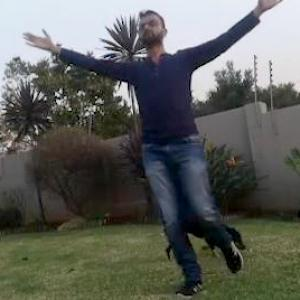takeoff: (76, 27, 288, 265)
